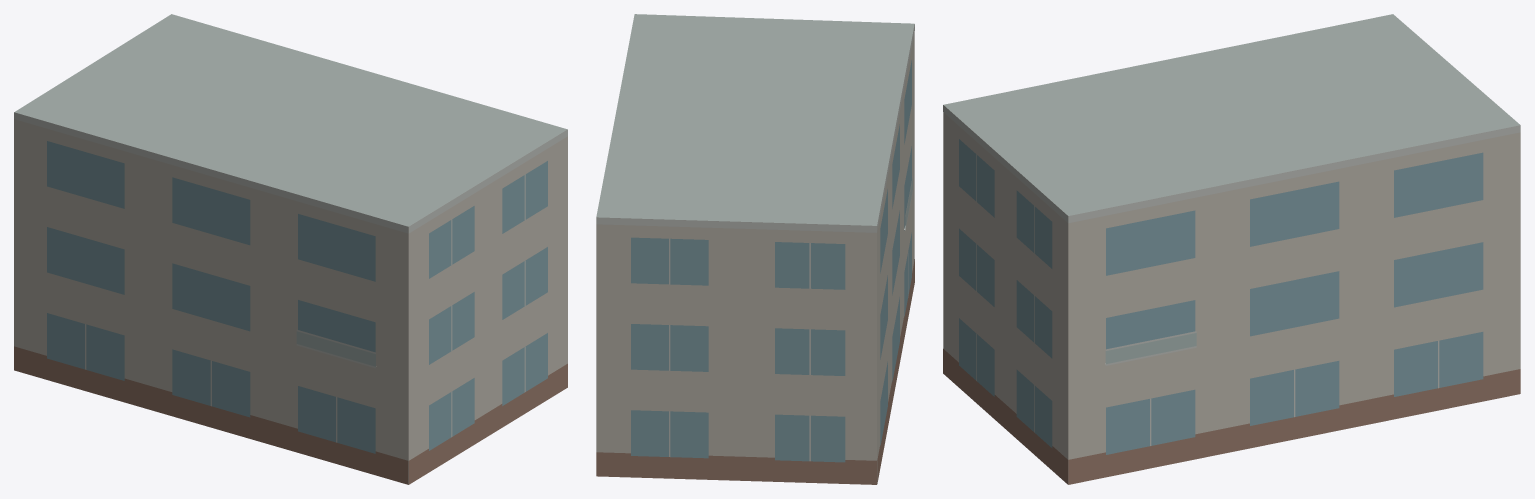
Rendered from survey-upis-32708298.glb.
3 renders of one model, left to right at view 1: azimuth 30°, elevation 25°; view 2: azimuth 150°, elevation 25°; view 3: azimuth 270°, elevation 25°, orthographic. The views are drawn at different scales.
Visible parts, largest first — view 1: survey-upis-32708298.tmp; view 2: survey-upis-32708298.tmp; view 3: survey-upis-32708298.tmp.
Boxes of the visible parts, left/top/right/bottom form: survey-upis-32708298.tmp: left=14, top=14, right=567, bottom=484; survey-upis-32708298.tmp: left=596, top=14, right=914, bottom=484; survey-upis-32708298.tmp: left=943, top=14, right=1520, bottom=484.
Bounding box in the file's own units: 14.77 × 9.15 × 17.83.
